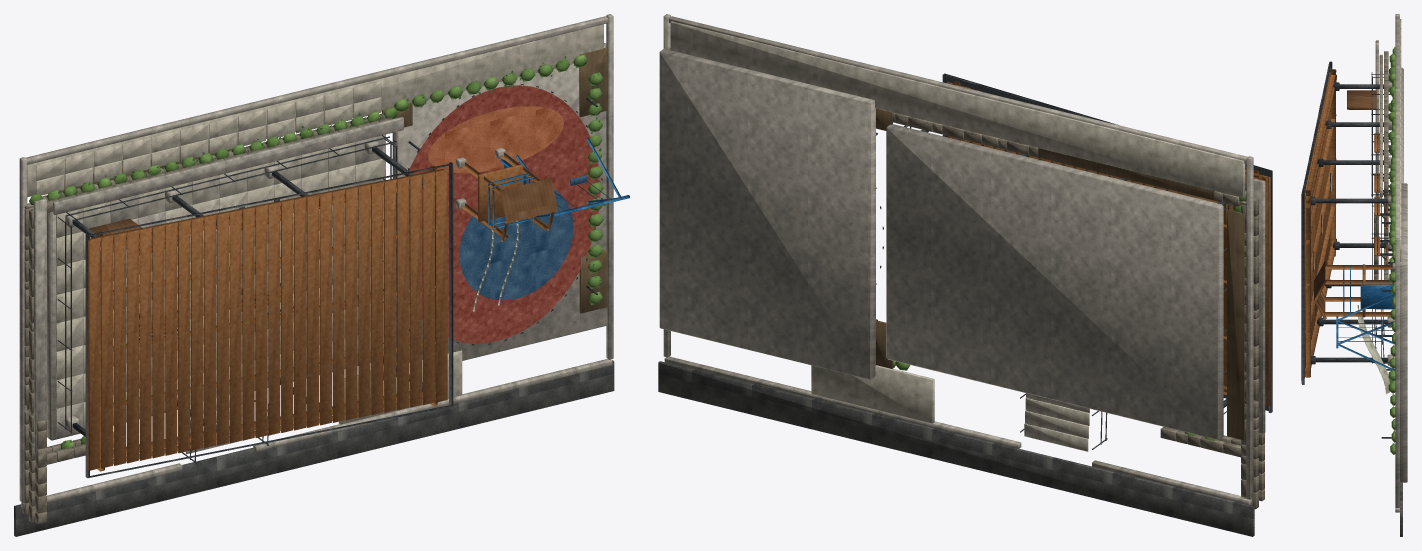
File: HIL10_lod2.glb
3 views of the same model, side by side, from view 1: azimuth 30°, elevation 25°; view 2: azimuth 150°, elevation 25°; view 3: azimuth 270°, elevation 25° (orthographic). The views are drawn at different scales.
Parts seen in each view (by area): view 1: ExposedCeiling__timber, PavingTiles__paving, AsphaltThreshold__asphalt, RubberPlaySurface__rubber_red, PeripheralCurbs__concrete, RearPathPavers__paving, Walkway__paving, SiteSubstrate__concrete, RetainingCap__concrete, RubberInsetBlue__rubber_blue, PlantVolumes__green, StoneRetainingMasonry__stone (+13 smaller); view 2: Foundation__concrete, SiteSubstrate__concrete, Walkway__paving, AsphaltThreshold__asphalt, PeripheralCurbs__concrete, PlantingBedSoil__bark, StoneRetainingMasonry__stone, AccessibleRamp__paving, ExposedCeiling__timber, RetainingCap__concrete, CorrugatedSheet__roof, EdgeFascias__roof; view 3: PeripheralCurbs__concrete, SiteSubstrate__concrete, TimberPerimeter__timber, Rafters__timber, Columns__metal, PlantVolumes__green, ExposedCeiling__timber, StoneRetainingMasonry__stone, TowerPosts__timber, RetainingCap__concrete, ClimbingPanel__blue_paint, GuardRails__metal (+15 smaller).
Part boxes in pixels (x1=…): ExposedCeiling__timber: x1=88, y1=169, x2=447, y2=470; PavingTiles__paving: x1=56, y1=142, x2=382, y2=429; AsphaltThreshold__asphalt: x1=14, y1=360, x2=614, y2=536; RubberPlaySurface__rubber_red: x1=409, y1=85, x2=600, y2=343; PeripheralCurbs__concrete: x1=19, y1=14, x2=613, y2=508; RearPathPavers__paving: x1=36, y1=81, x2=381, y2=195; Walkway__paving: x1=27, y1=24, x2=603, y2=424; SiteSubstrate__concrete: x1=392, y1=43, x2=606, y2=362; RetainingCap__concrete: x1=34, y1=117, x2=403, y2=455; RubberInsetBlue__rubber_blue: x1=459, y1=182, x2=573, y2=300; PlantVolumes__green: x1=29, y1=54, x2=603, y2=449; StoneRetainingMasonry__stone: x1=22, y1=113, x2=392, y2=524; Foundation__concrete: x1=886, y1=124, x2=1223, y2=439; SiteSubstrate__concrete: x1=659, y1=48, x2=875, y2=379; Walkway__paving: x1=670, y1=21, x2=1245, y2=423; AsphaltThreshold__asphalt: x1=658, y1=361, x2=1254, y2=536; PeripheralCurbs__concrete: x1=663, y1=14, x2=1253, y2=504; PlantingBedSoil__bark: x1=669, y1=48, x2=1245, y2=440; StoneRetainingMasonry__stone: x1=892, y1=112, x2=1264, y2=509; AccessibleRamp__paving: x1=1024, y1=393, x2=1089, y2=451; ExposedCeiling__timber: x1=946, y1=82, x2=1270, y2=405; RetainingCap__concrete: x1=1253, y1=178, x2=1265, y2=433; CorrugatedSheet__roof: x1=947, y1=76, x2=1270, y2=410; EdgeFascias__roof: x1=942, y1=73, x2=1272, y2=413; PeripheralCurbs__concrete: x1=1395, y1=14, x2=1399, y2=512; SiteSubstrate__concrete: x1=1400, y1=183, x2=1407, y2=482; TimberPerimeter__timber: x1=1305, y1=69, x2=1336, y2=377; Rafters__timber: x1=1305, y1=70, x2=1336, y2=376; Columns__metal: x1=1315, y1=84, x2=1387, y2=362; PlantVolumes__green: x1=1388, y1=47, x2=1395, y2=454; ExposedCeiling__timber: x1=1304, y1=67, x2=1331, y2=377; StoneRetainingMasonry__stone: x1=1374, y1=51, x2=1394, y2=279; TowerPosts__timber: x1=1324, y1=265, x2=1392, y2=316; RetainingCap__concrete: x1=1375, y1=40, x2=1382, y2=242; ClimbingPanel__blue_paint: x1=1360, y1=284, x2=1395, y2=308; GuardRails__metal: x1=1371, y1=72, x2=1392, y2=363.
Bounding box in the file's own units: 22 × 13.28 × 4.32.
Materials: 18 (18 with a texture image).
